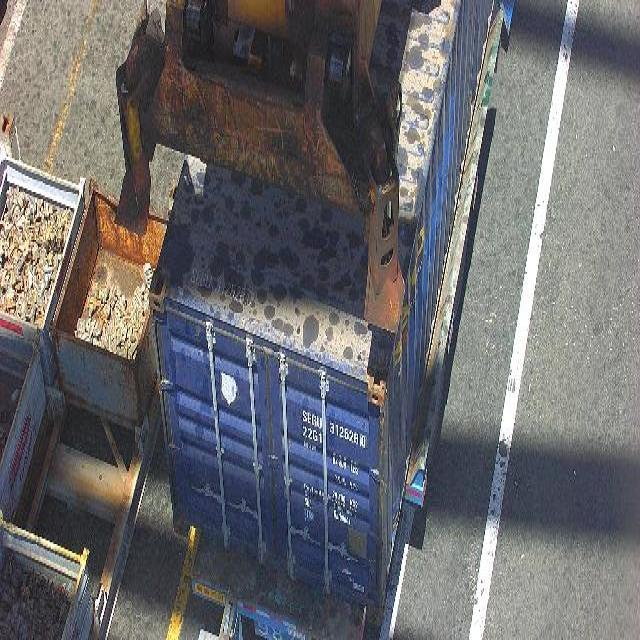ISO: (300, 427, 324, 445)
container_number: (298, 404, 367, 448)
